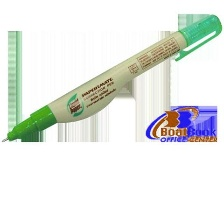correction_fluid: (0, 13, 222, 145)
